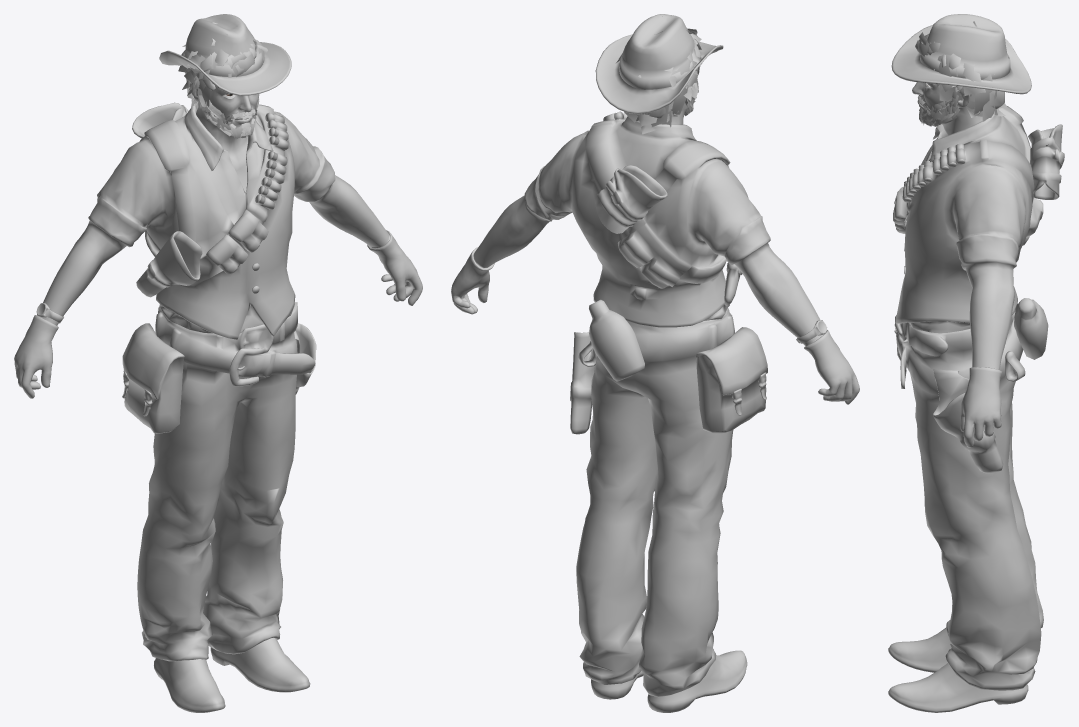
Rendered from Quatermain.obj.
3 renders of one model, left to right at view 1: azimuth 30°, elevation 25°; view 2: azimuth 150°, elevation 25°; view 3: azimuth 270°, elevation 25°, orthographic.
Visible parts, largest first — view 1: QuatermainLegs, QuatermainTorso, QuatermainProps, QuatermainHead, QuatermainBeard, QuatermainHair; view 2: QuatermainLegs, QuatermainTorso, QuatermainProps, QuatermainBeard, QuatermainHair; view 3: QuatermainLegs, QuatermainTorso, QuatermainProps, QuatermainBeard, QuatermainHead, QuatermainHair.
Part boxes in pixels (box(x1,y1,x2,y2)): QuatermainLegs: box(137, 302, 315, 712); QuatermainTorso: box(14, 104, 422, 398); QuatermainProps: box(122, 14, 316, 433); QuatermainHead: box(189, 83, 259, 192); QuatermainBeard: box(178, 64, 263, 138); QuatermainHair: box(178, 22, 267, 79); QuatermainLegs: box(576, 308, 747, 712); QuatermainTorso: box(451, 111, 859, 404); QuatermainProps: box(570, 14, 767, 434); QuatermainBeard: box(624, 67, 699, 134); QuatermainHair: box(616, 28, 702, 87); QuatermainLegs: box(888, 311, 1043, 712); QuatermainTorso: box(893, 106, 1048, 447); QuatermainProps: box(891, 14, 1064, 473); QuatermainBeard: box(917, 70, 1006, 126); QuatermainHead: box(912, 82, 982, 135); QuatermainHair: box(915, 21, 1009, 96).
Bounding box in the file's own units: 2.41 × 3.8 × 0.9152.
